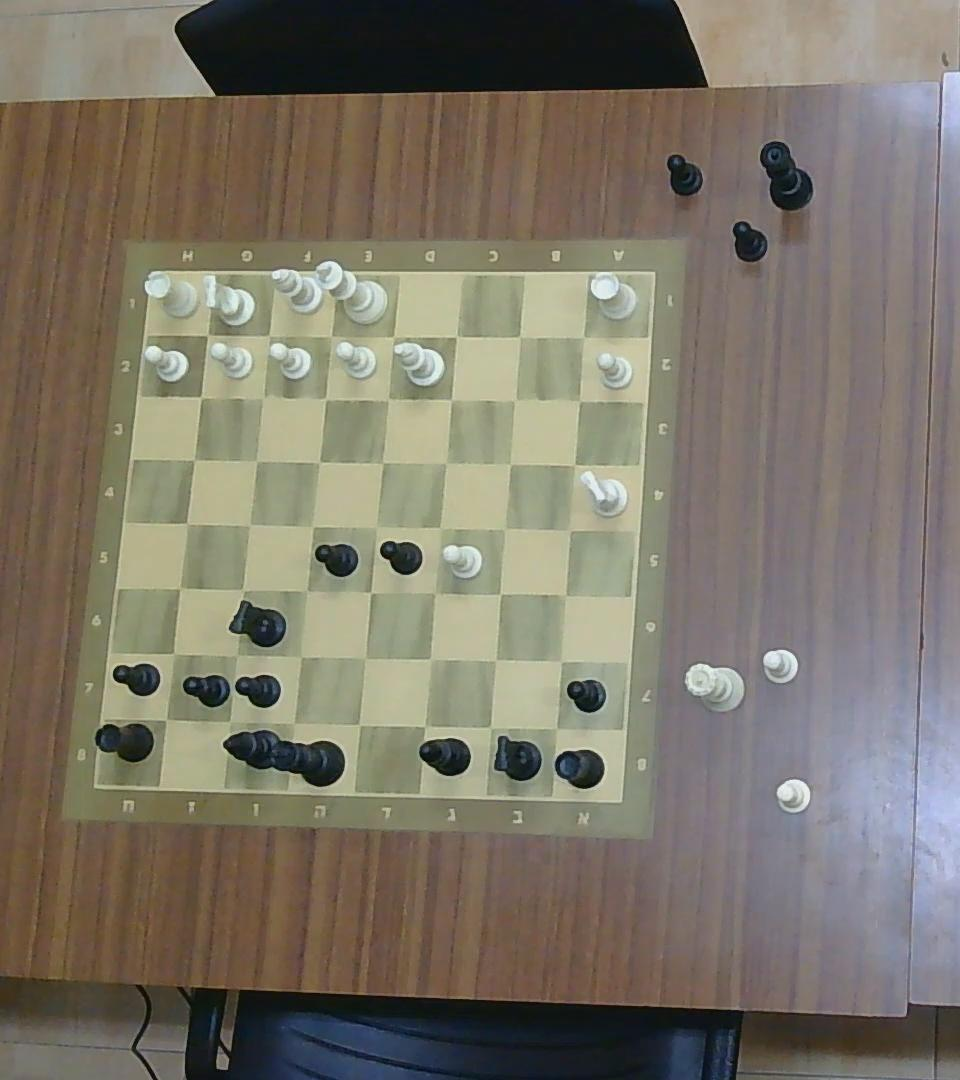xcorner: (408, 641, 453, 675), (160, 636, 193, 672), (501, 323, 540, 352), (358, 512, 395, 542), (281, 640, 315, 672), (422, 512, 458, 542), (539, 711, 575, 741), (432, 385, 469, 413), (287, 578, 324, 606), (548, 582, 586, 609), (561, 388, 600, 414), (295, 510, 328, 540), (485, 514, 520, 542), (474, 712, 509, 740), (221, 640, 251, 672), (149, 702, 179, 734), (344, 710, 376, 740), (308, 384, 339, 414), (301, 446, 334, 474), (234, 507, 264, 537), (192, 318, 221, 349), (317, 320, 344, 353), (498, 387, 532, 413), (551, 516, 585, 542), (348, 642, 378, 671), (408, 713, 442, 738), (282, 708, 310, 738), (484, 647, 513, 675), (216, 707, 244, 736), (167, 574, 197, 601), (255, 321, 283, 349), (178, 445, 206, 473), (241, 446, 269, 474), (172, 507, 200, 535), (420, 580, 449, 607), (249, 384, 276, 412), (558, 452, 590, 475), (186, 384, 214, 410), (374, 388, 402, 414), (379, 320, 404, 349), (368, 449, 397, 474), (482, 581, 512, 605), (546, 648, 576, 672), (439, 324, 470, 347), (228, 576, 255, 602), (496, 451, 525, 474), (570, 324, 596, 347), (356, 580, 381, 601), (431, 453, 456, 473)
